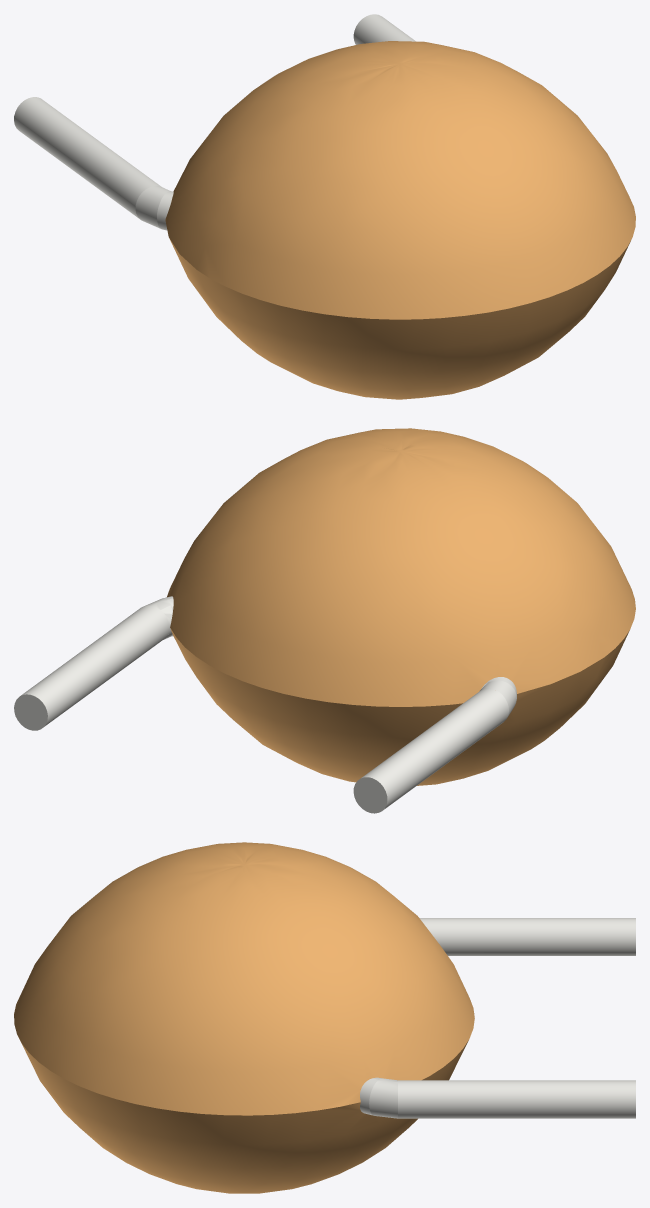
File: C_Disc_D6.0mm_W4.4mm_P5.00mm.glb
3 renders of one model, top to bottom at view 1: azimuth 30°, elevation 25°; view 2: azimuth 150°, elevation 25°; view 3: azimuth 270°, elevation 25°, orthographic. The views are drawn at different scales.
Parts seen in each view (by area): view 1: Shape_IndexedFaceSet.004, Shape_IndexedFaceSet.005, Shape_IndexedFaceSet.001, Shape_IndexedFaceSet.010, Shape_IndexedFaceSet.002; view 2: Shape_IndexedFaceSet.004, Shape_IndexedFaceSet.005, Shape_IndexedFaceSet.001, Shape_IndexedFaceSet.010, Shape_IndexedFaceSet.011, Shape_IndexedFaceSet; view 3: Shape_IndexedFaceSet.004, Shape_IndexedFaceSet.005, Shape_IndexedFaceSet.010, Shape_IndexedFaceSet.001, Shape_IndexedFaceSet.007.
Part boxes in pixels (x1,y1,x2,y2): Shape_IndexedFaceSet.004: [165, 41, 635, 319]; Shape_IndexedFaceSet.005: [169, 238, 630, 399]; Shape_IndexedFaceSet.001: [14, 97, 161, 218]; Shape_IndexedFaceSet.010: [353, 14, 415, 44]; Shape_IndexedFaceSet.002: [135, 186, 170, 228]; Shape_IndexedFaceSet.004: [167, 428, 635, 706]; Shape_IndexedFaceSet.005: [170, 628, 629, 785]; Shape_IndexedFaceSet.001: [361, 688, 508, 810]; Shape_IndexedFaceSet.010: [21, 605, 169, 726]; Shape_IndexedFaceSet.011: [14, 694, 47, 730]; Shape_IndexedFaceSet: [353, 777, 387, 813]; Shape_IndexedFaceSet.004: [14, 842, 474, 1115]; Shape_IndexedFaceSet.005: [17, 1035, 468, 1193]; Shape_IndexedFaceSet.010: [398, 1080, 635, 1118]; Shape_IndexedFaceSet.001: [419, 918, 635, 955]; Shape_IndexedFaceSet.007: [369, 1078, 397, 1118].
Size of the model in its own units: 2.36 by 1.73 by 3.19.
